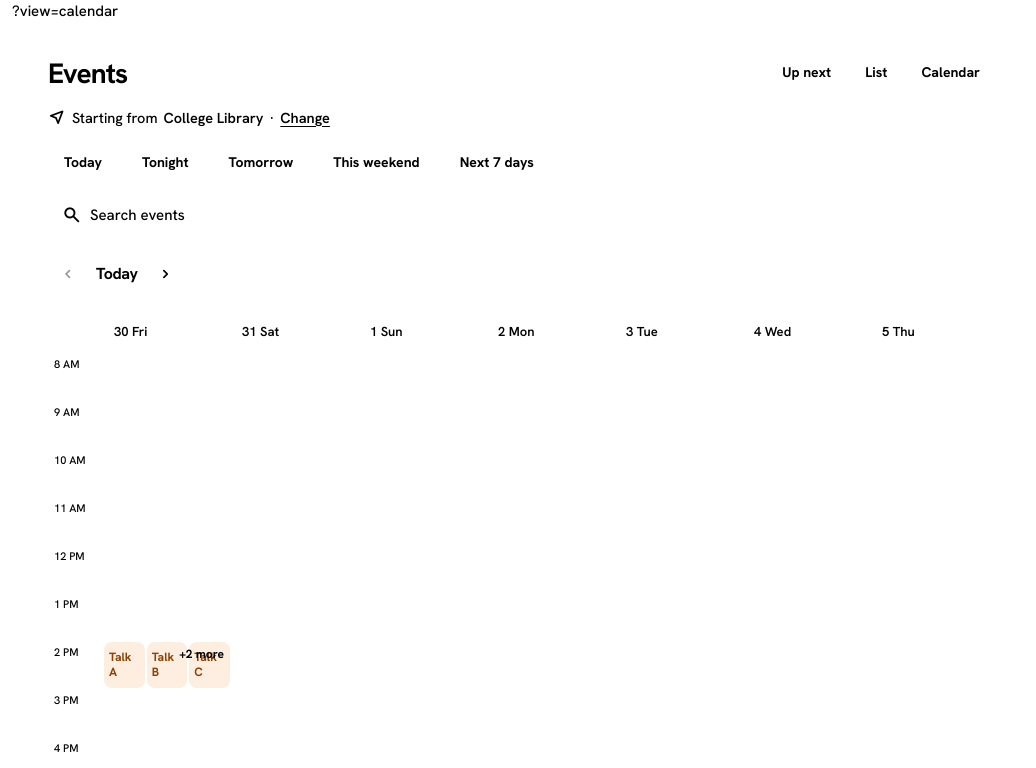
Test: EventsPage › caps a time slot at three lanes and lists the rest under +N more
The image size is (1036, 768).
Expected: the number of buttons with test id "events-calendar-block" is 3, [104,642,145,688]; [147,642,187,688]; [189,642,230,688]
Click the button with aria-label "Show all events at 2 PM" at point(202, 654), box [173,642,230,666]
(page scrolled)
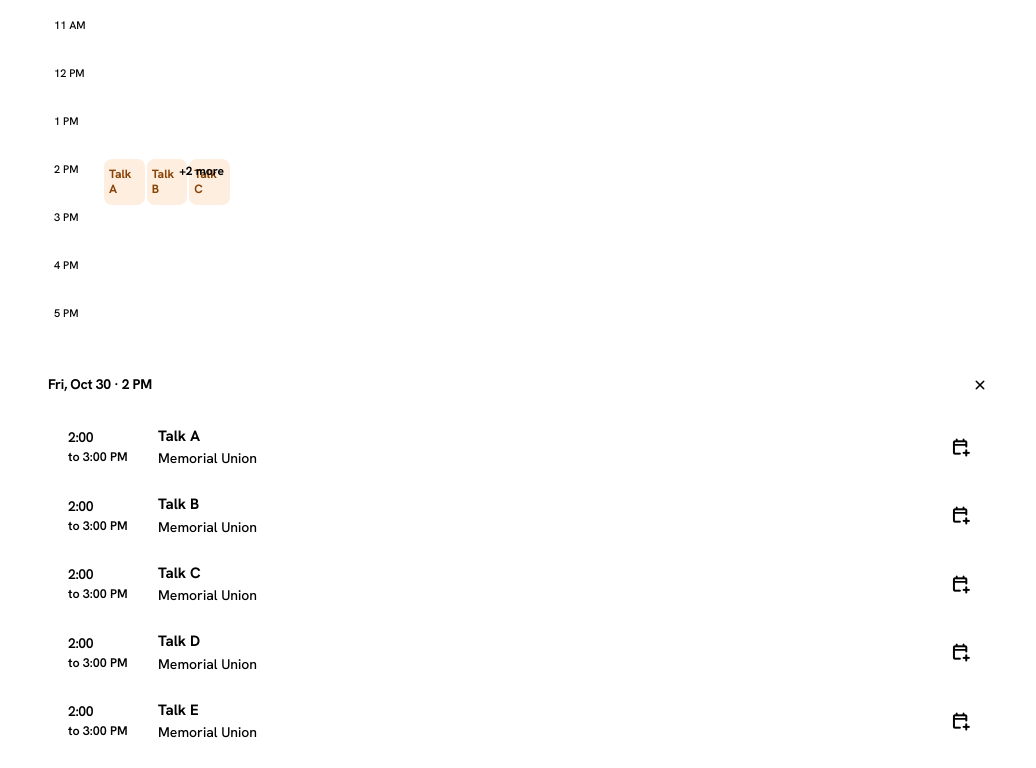
Expected: the button "+2 more" is shown, [173,159,230,183]
Result: the button "Talk A" below "Fri, Oct 30" is shown at [158,425,786,447]
